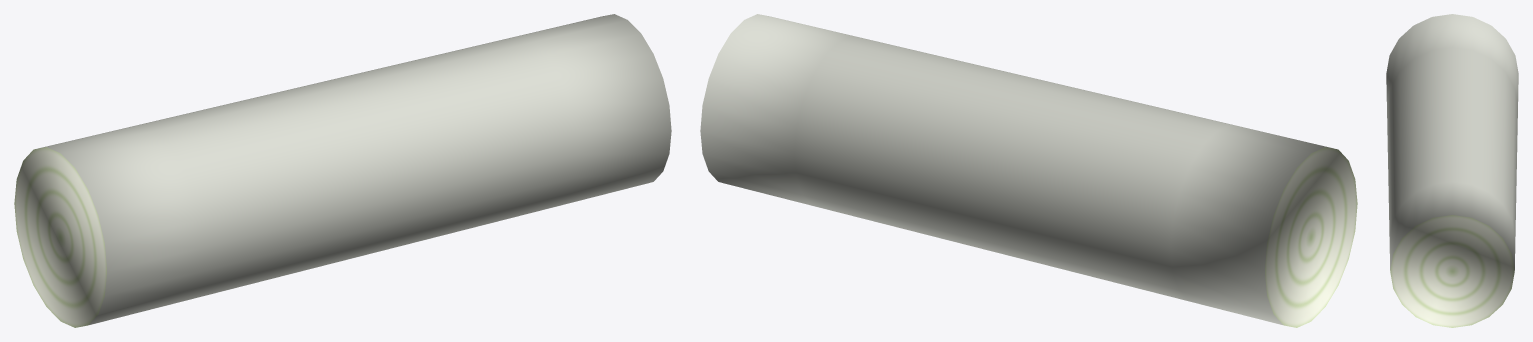
File: GreenOnion_Portion.fbx
The picture shows the model from 3 angles, left to right: view 1: azimuth 30°, elevation 25°; view 2: azimuth 150°, elevation 25°; view 3: azimuth 270°, elevation 25°; orthographic projection. The views are drawn at different scales.
Visible parts, largest first — view 1: GreenOnion_Portion; view 2: GreenOnion_Portion; view 3: GreenOnion_Portion.
Part boxes in pixels (x1,y1,x2,y2): GreenOnion_Portion: (14, 14, 671, 327); GreenOnion_Portion: (700, 14, 1357, 327); GreenOnion_Portion: (1386, 14, 1518, 327).
Bounding box in the file's own units: 0.06 × 0.017 × 0.017.
2 materials, 1 textured.
